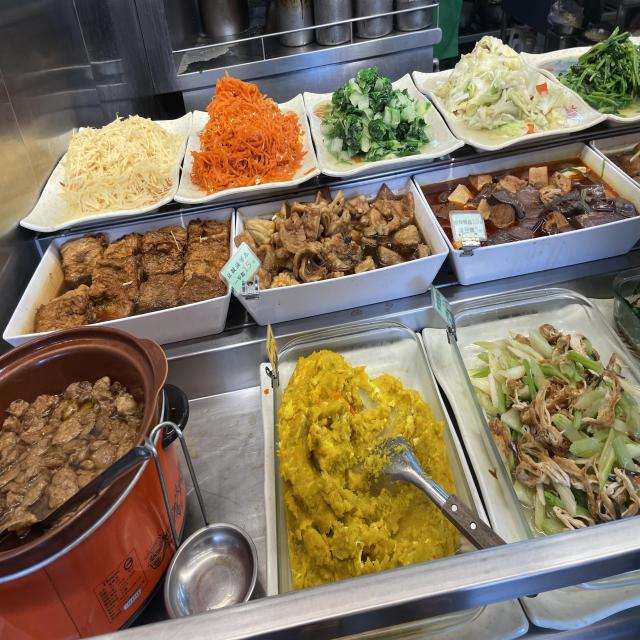Scrambled eggs with carrots: (218, 112, 292, 172)
cabbage: (462, 60, 536, 127)
